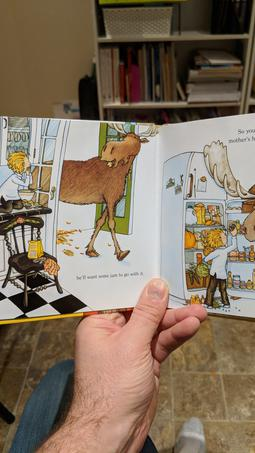text block: (71, 261, 152, 283), (221, 124, 255, 143)
